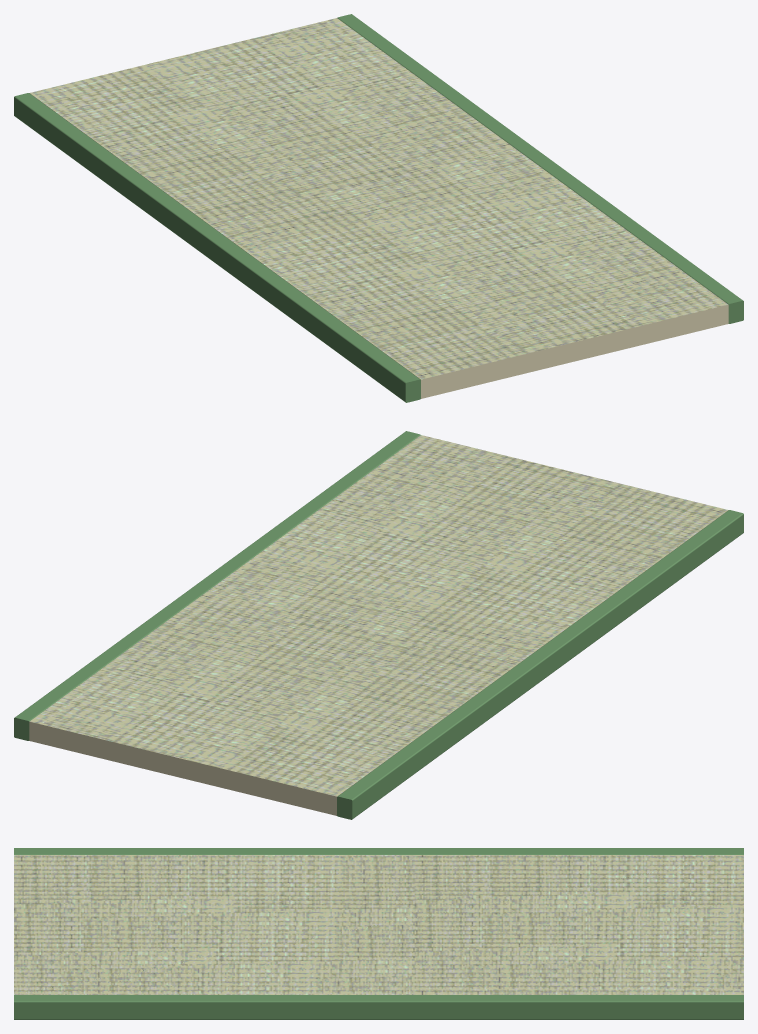
The model's file is 772_tatami.glb.
3 renders of one model, top to bottom at view 1: azimuth 30°, elevation 25°; view 2: azimuth 150°, elevation 25°; view 3: azimuth 270°, elevation 25°, orthographic. The views are drawn at different scales.
Visible parts, largest first — view 1: Body; view 2: Body; view 3: Body.
Part boxes in pixels (box(x1,y1,x2,y2)): Body: box(14, 14, 743, 402); Body: box(14, 431, 743, 819); Body: box(14, 848, 743, 1019).
Size of the model in its own units: 0.878 by 0.05 by 1.76.
Materials: 3 (1 with a texture image).
